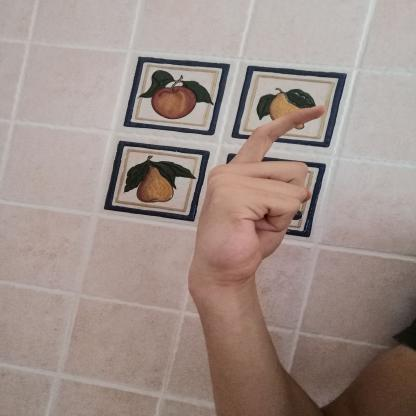RAA: (182, 93, 336, 295)
